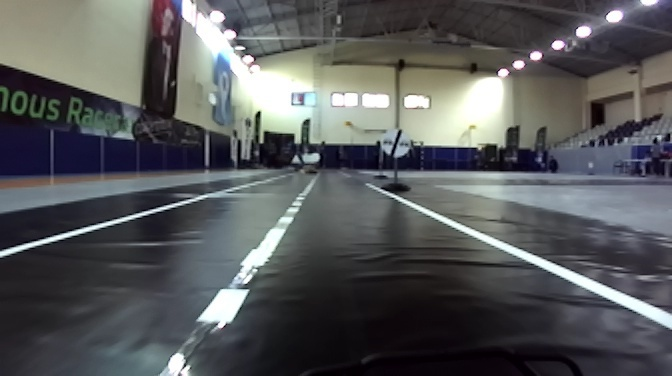sollama_serbest: (379, 128, 410, 159)
